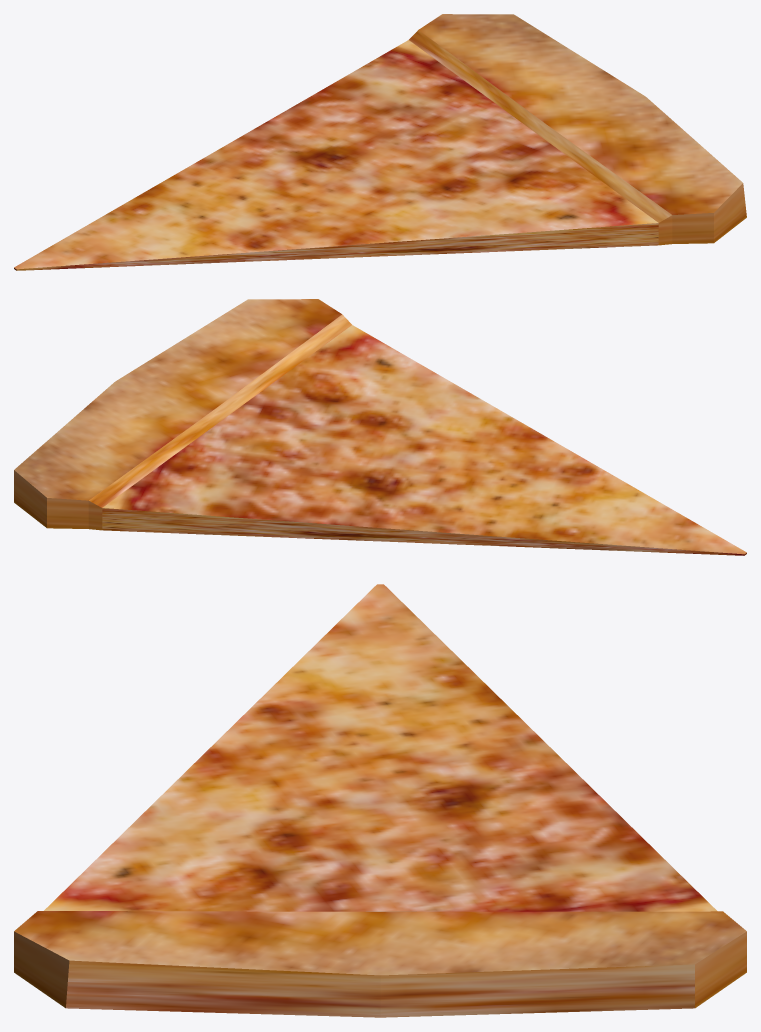
The model's file is pizza.glb.
The picture shows the model from 3 angles, top to bottom: view 1: azimuth 30°, elevation 25°; view 2: azimuth 150°, elevation 25°; view 3: azimuth 270°, elevation 25°; orthographic projection. The views are drawn at different scales.
Parts seen in each view (by area): view 1: Cube; view 2: Cube; view 3: Cube.
Boxes of the visible parts, x1,y1,x2,y2 form: Cube: [14, 14, 746, 270]; Cube: [14, 299, 746, 555]; Cube: [14, 584, 746, 1017].
Bounding box in the file's own units: 1.44 × 0.075 × 1.08.
1 material, 1 textured.
